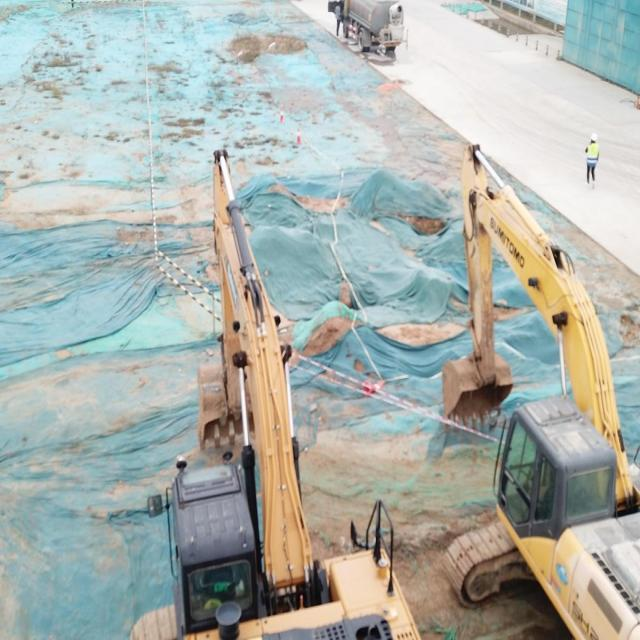excavator: (120, 138, 427, 640), (431, 27, 640, 640)
